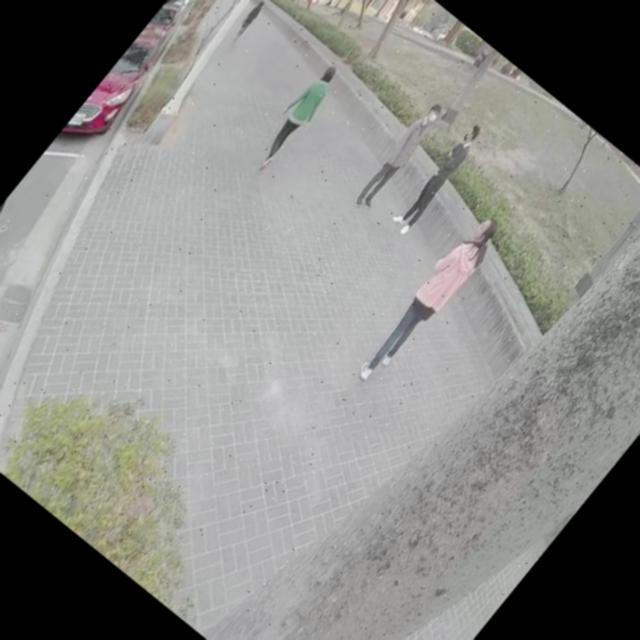person: (351, 207, 511, 392), (390, 124, 488, 238), (248, 60, 346, 174), (353, 100, 447, 210), (231, 0, 269, 42)
